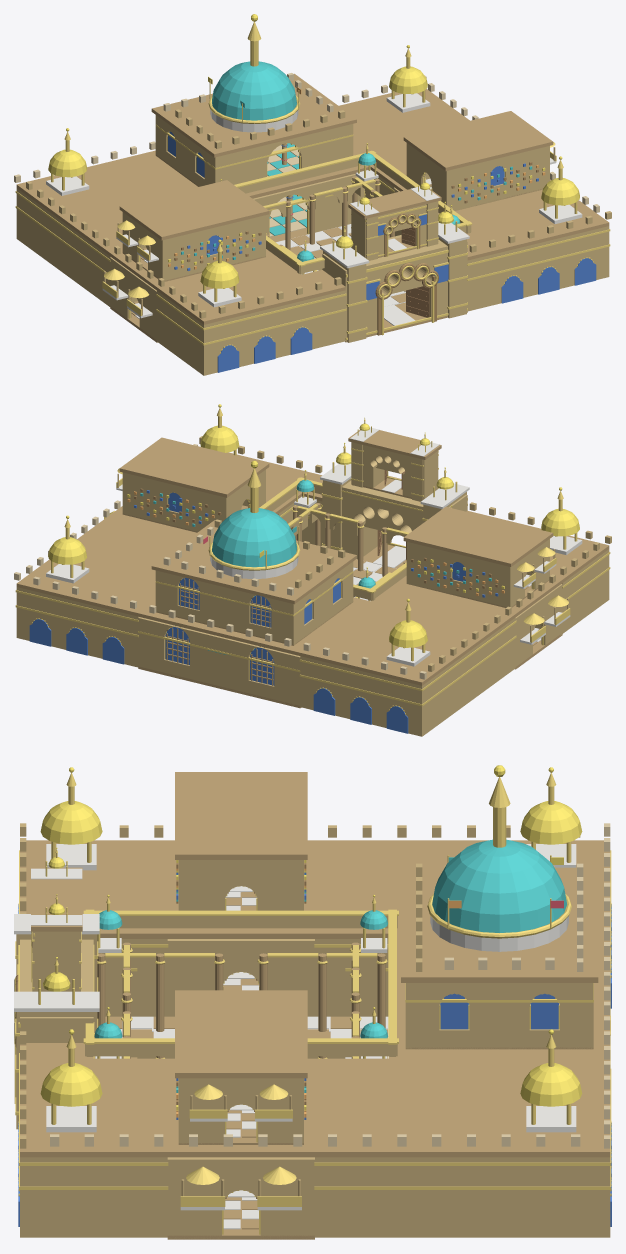
Rendered from rajasthani_mahal_mega.glb.
The picture shows the model from 3 angles, top to bottom: view 1: azimuth 30°, elevation 25°; view 2: azimuth 150°, elevation 25°; view 3: azimuth 270°, elevation 25°; orthographic projection. The views are drawn at different scales.
Parts seen in each view (by area): view 1: rajasthani_mahal_mega; view 2: rajasthani_mahal_mega; view 3: rajasthani_mahal_mega.
Boxes of the visible parts, x1,y1,x2,y2 form: rajasthani_mahal_mega: (14,14,611,375); rajasthani_mahal_mega: (14,404,611,736); rajasthani_mahal_mega: (14,765,611,1239).
Bounding box in the file's own units: 54 × 23.78 × 40.51.
